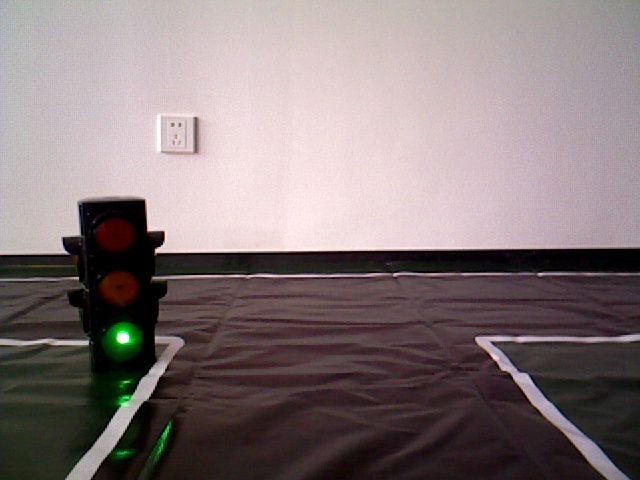green: (82, 200, 150, 360)
